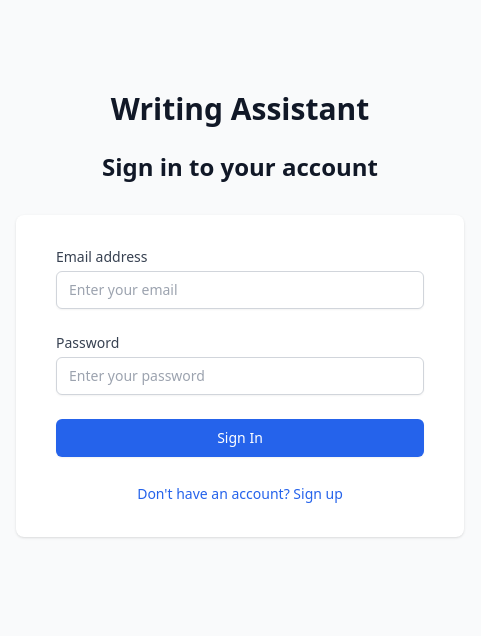
Test case: LoginPage › should validate password confirmation
The width and height of the screenshot is (481, 636).
// Switch to sign up mode
Click the button "Don't have an account? Sign up" at (240, 494), box [137,484,343,504]
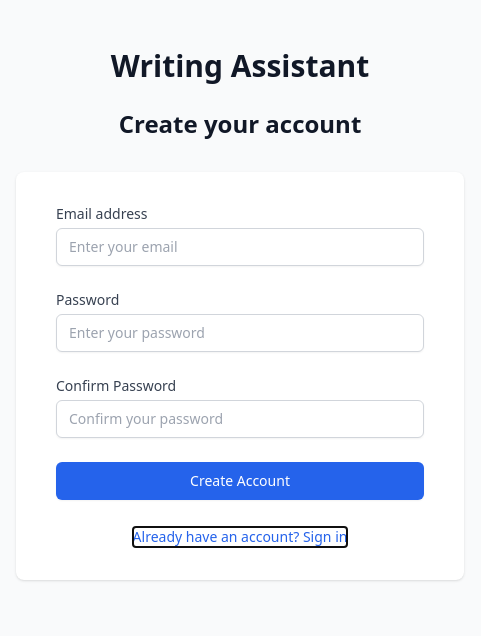
Type "test@example.com" into the field labelled "Email address" at (240, 247), box [56,228,424,266]
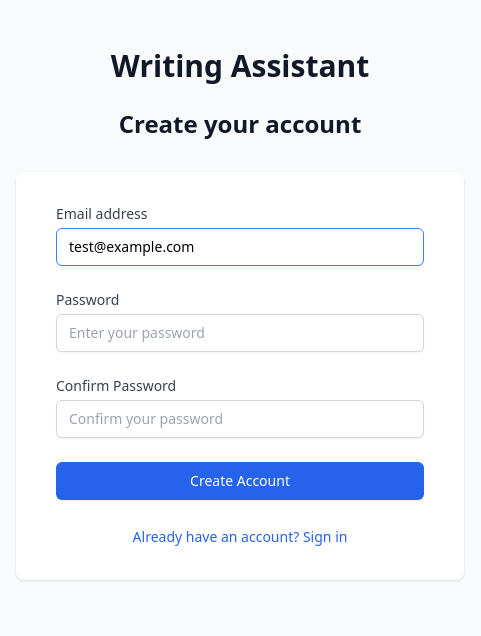
Type "password123" into the password field labelled "Password" at (240, 333), box [56,314,424,352]
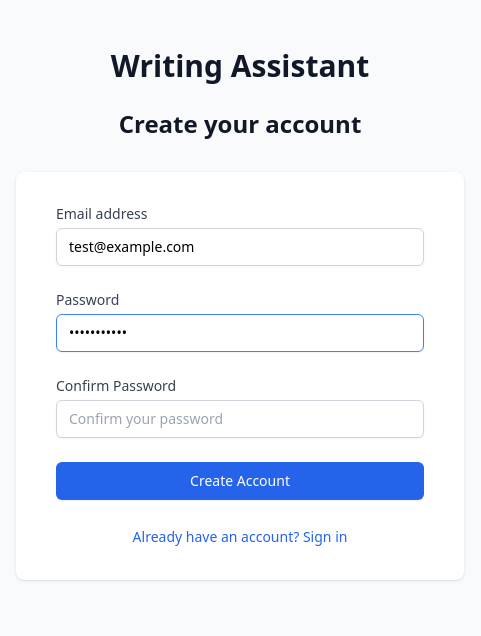
Type "differentpassword" into the password field labelled "Confirm Password" at (240, 419), box [56,400,424,438]
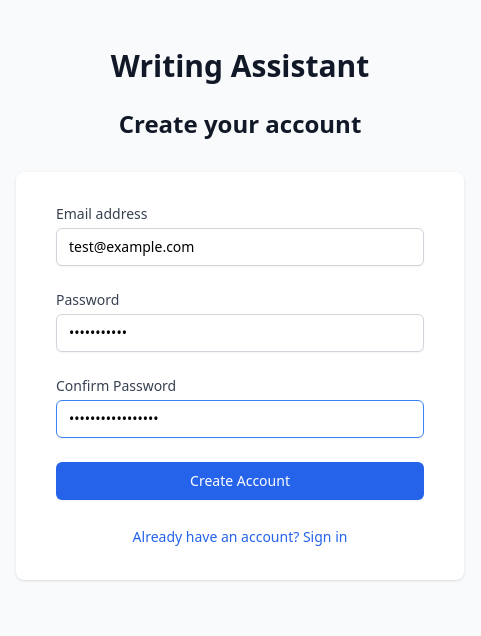
Click the button "Create Account" at (240, 481), box [56,462,424,500]
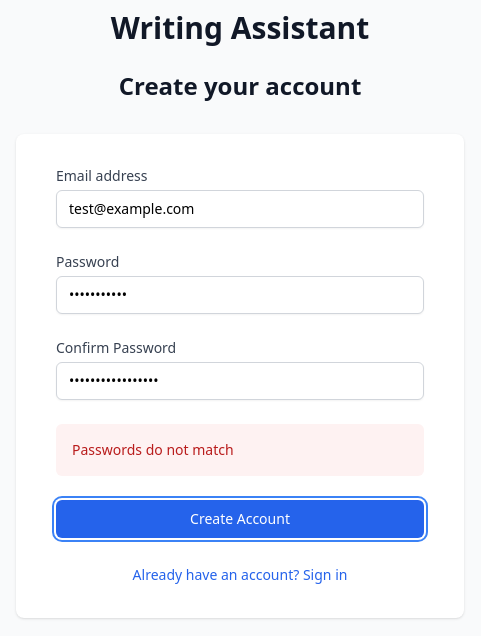
Expected: the text "Passwords do not match" is shown, [72,440,234,459]
